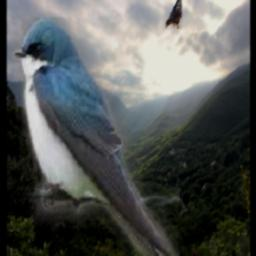Crow: (167, 0, 183, 30)
Swallow: (12, 18, 181, 256)
